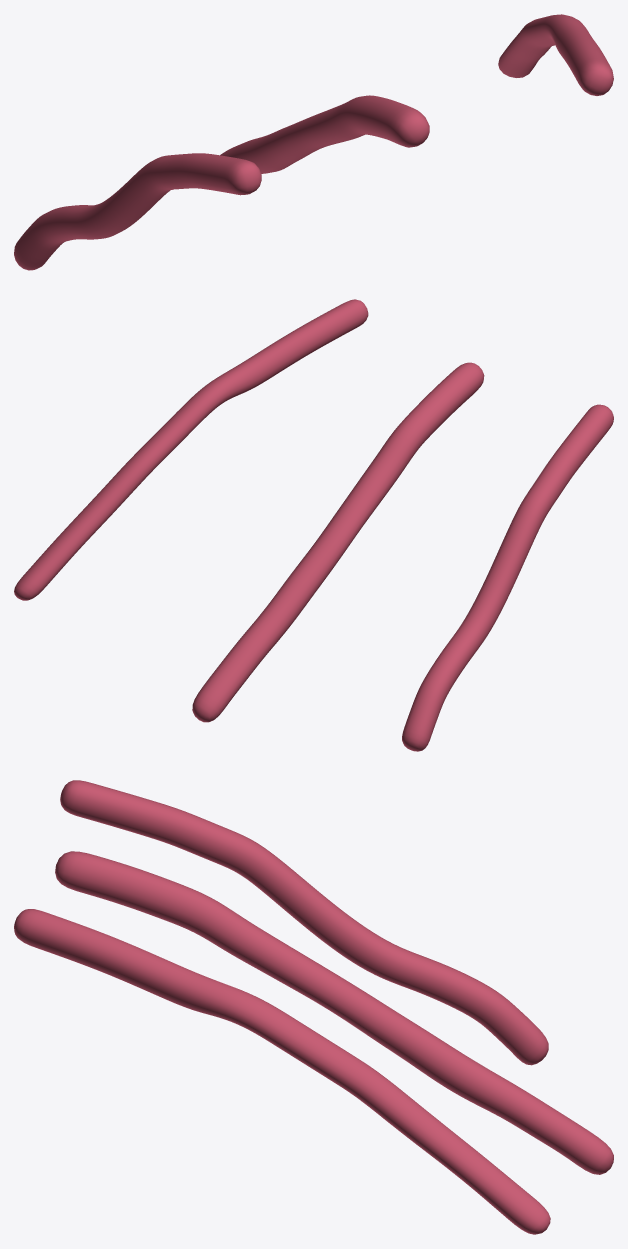
3 renders of one model, top to bottom at view 1: azimuth 30°, elevation 25°; view 2: azimuth 150°, elevation 25°; view 3: azimuth 270°, elevation 25°, orthographic. The views are drawn at different scales.
Parts seen in each view (by area): view 1: 左侧手指腱滑膜鞘; view 2: 左侧手指腱滑膜鞘; view 3: 左侧手指腱滑膜鞘.
Part boxes in pixels (box(x1,y1,x2,y2)): 左侧手指腱滑膜鞘: box(14, 14, 613, 270); 左侧手指腱滑膜鞘: box(14, 299, 613, 751); 左侧手指腱滑膜鞘: box(14, 780, 613, 1234).
Size of the model in its own units: 0.0883 by 0.0494 by 0.0857.
